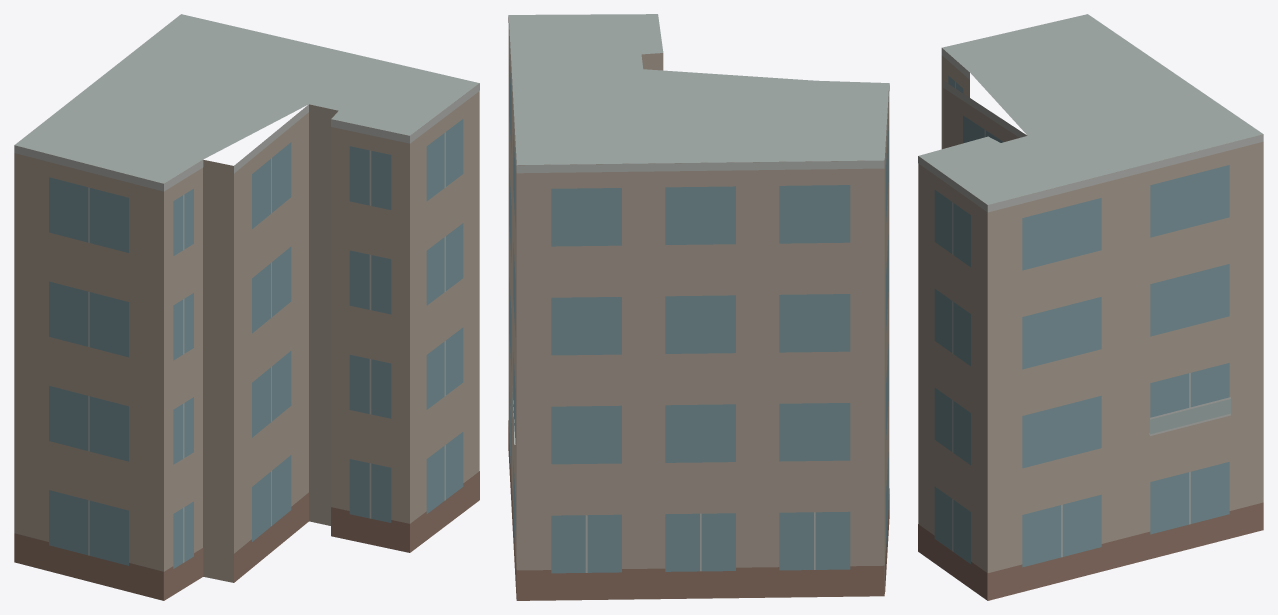
The model's file is survey-upis-32614647.glb.
3 renders of one model, left to right at view 1: azimuth 30°, elevation 25°; view 2: azimuth 150°, elevation 25°; view 3: azimuth 270°, elevation 25°, orthographic. The views are drawn at different scales.
Parts seen in each view (by area): view 1: survey-upis-32614647.tmp; view 2: survey-upis-32614647.tmp; view 3: survey-upis-32614647.tmp.
Boxes of the visible parts, left/top/right/bottom form: survey-upis-32614647.tmp: left=14, top=14, right=479, bottom=600; survey-upis-32614647.tmp: left=508, top=14, right=889, bottom=600; survey-upis-32614647.tmp: left=918, top=14, right=1263, bottom=600.
Bounding box in the file's own units: 13.57 × 13.1 × 10.37.
